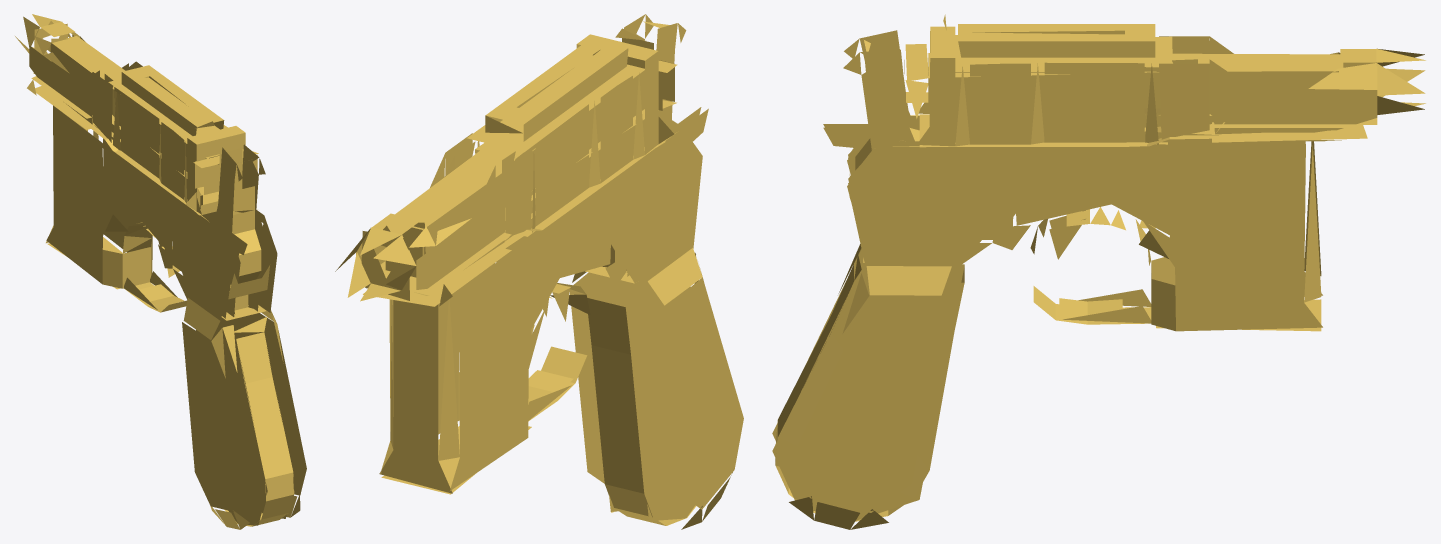
Rendered from charm_mst_pistol_6.glb.
3 renders of one model, left to right at view 1: azimuth 30°, elevation 25°; view 2: azimuth 150°, elevation 25°; view 3: azimuth 270°, elevation 25°, orthographic. The views are drawn at different scales.
Visible parts, largest first — view 1: p0_paint; view 2: p0_paint; view 3: p0_paint.
Part boxes in pixels (left/top/right/bottom): p0_paint: left=15, top=14, right=306, bottom=529; p0_paint: left=335, top=14, right=743, bottom=529; p0_paint: left=772, top=14, right=1425, bottom=529.
Size of the model in its own units: 0.0323 by 0.1608 by 0.1942.
